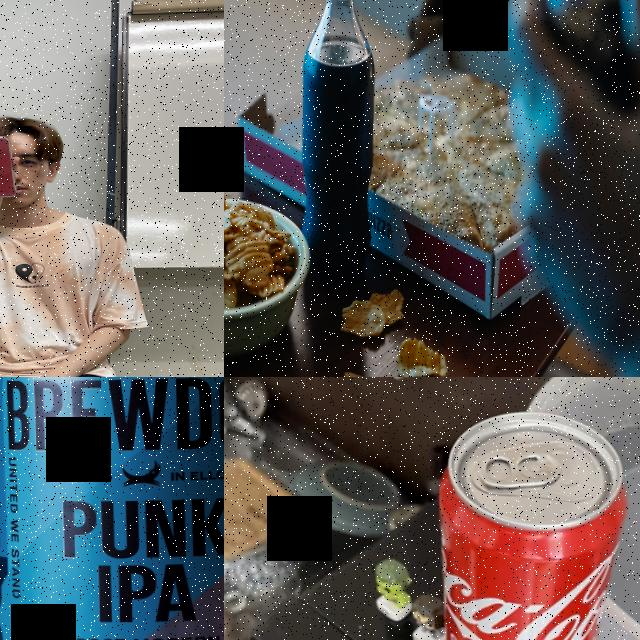bottle: (297, 0, 380, 291)
can: (0, 377, 224, 640), (436, 408, 632, 640)
